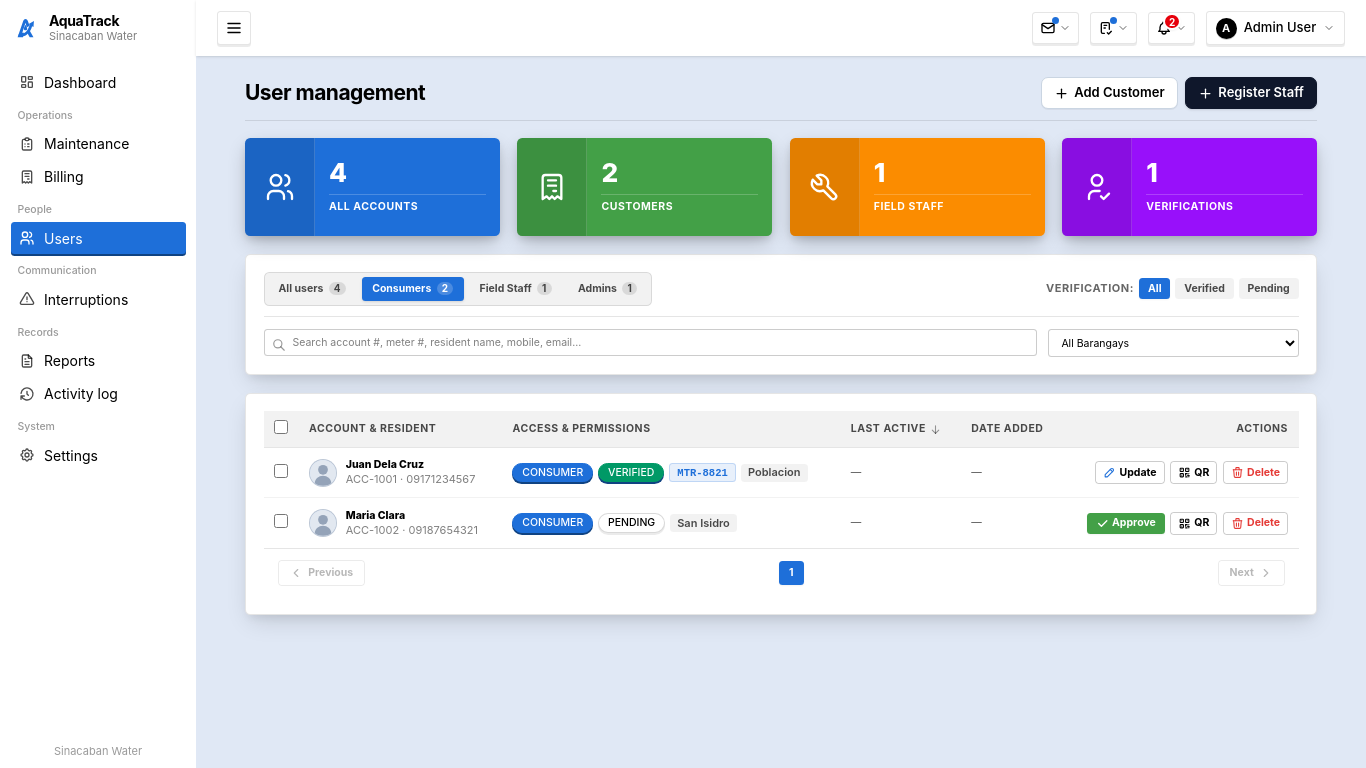
it: AdminUsersView (Consolidated Customers + Staff) › opens register staff modal when in staff tab
The image size is (1366, 768).
Expected: the text "Juan Dela Cruz" is shown, [346, 458, 424, 471]
Click the button "Field Staff 1".
click(516, 289)  # box [469, 276, 562, 301]
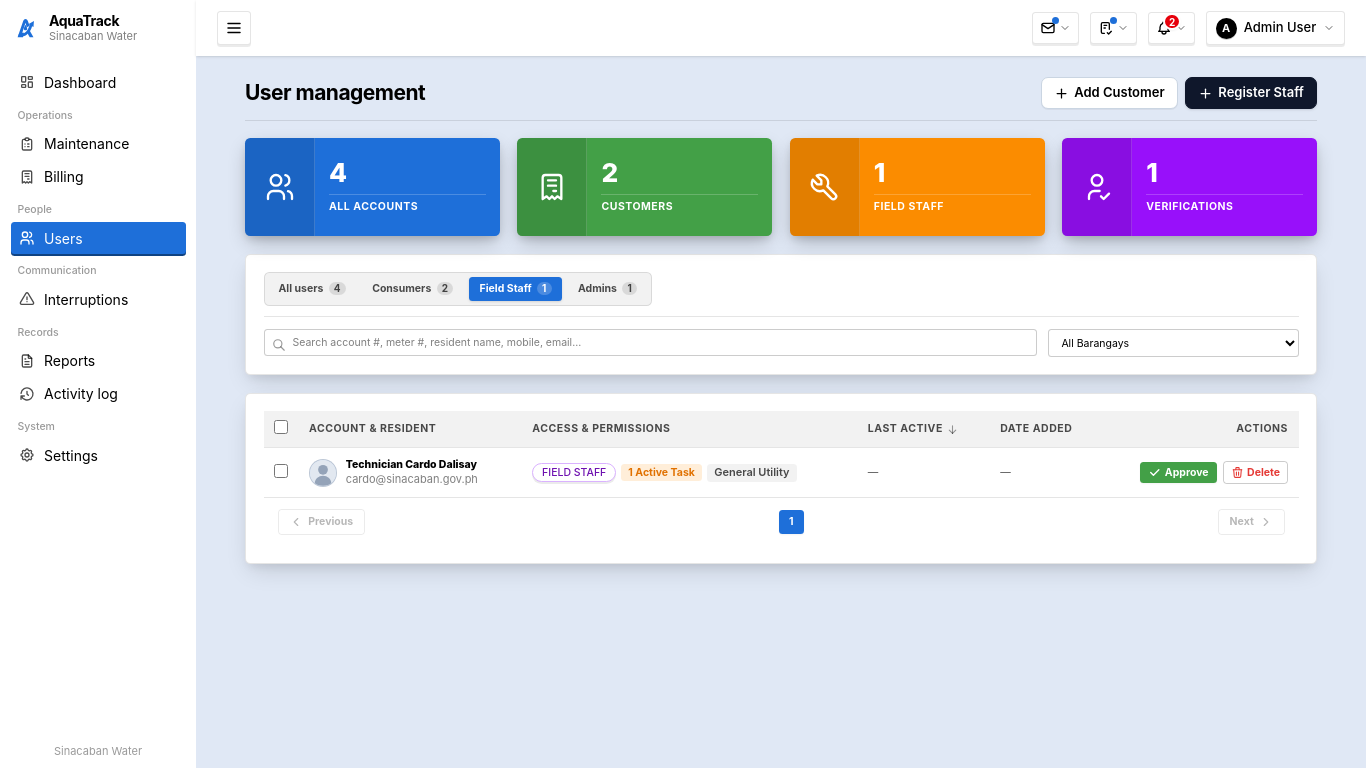
Click the button "Register Staff".
click(1251, 93)  # box [1185, 77, 1317, 109]
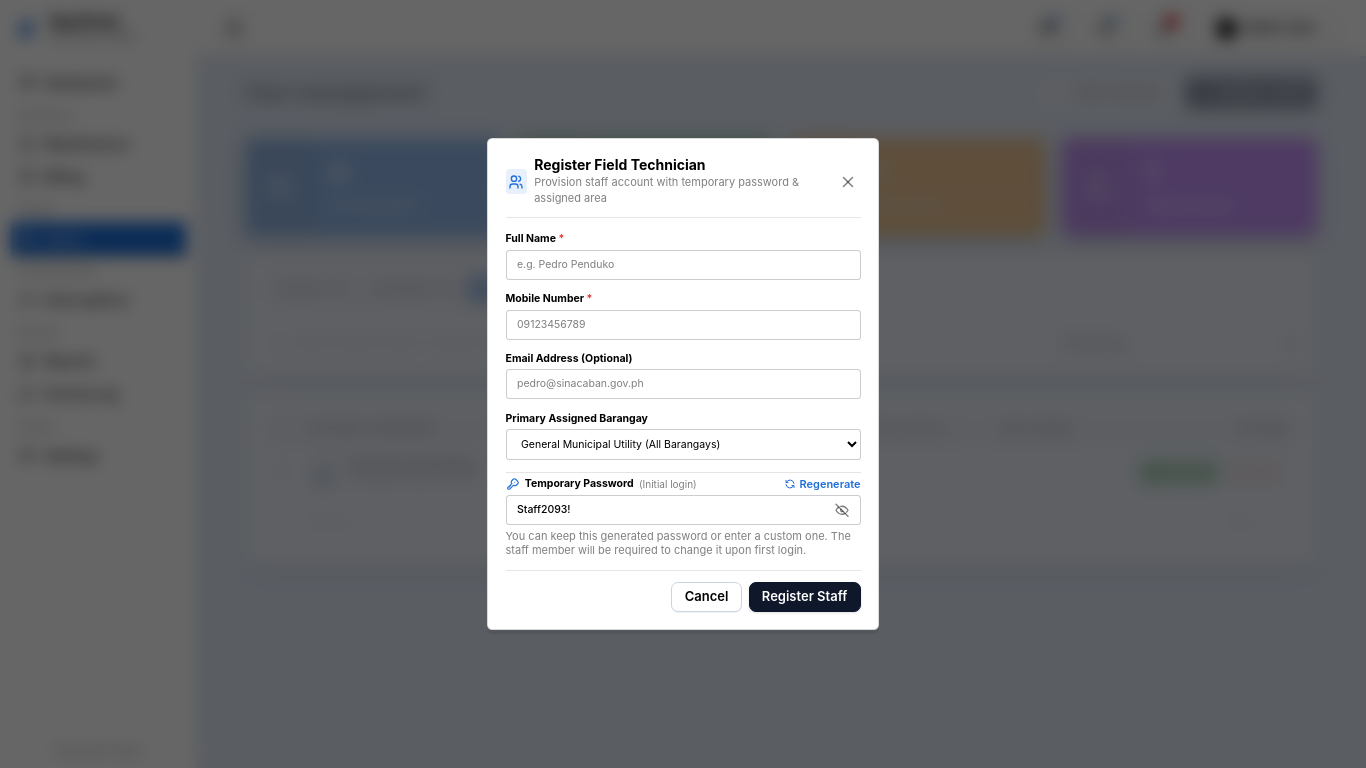
Expected: the heading "Register Field Technician" is shown, [534, 156, 706, 174]
